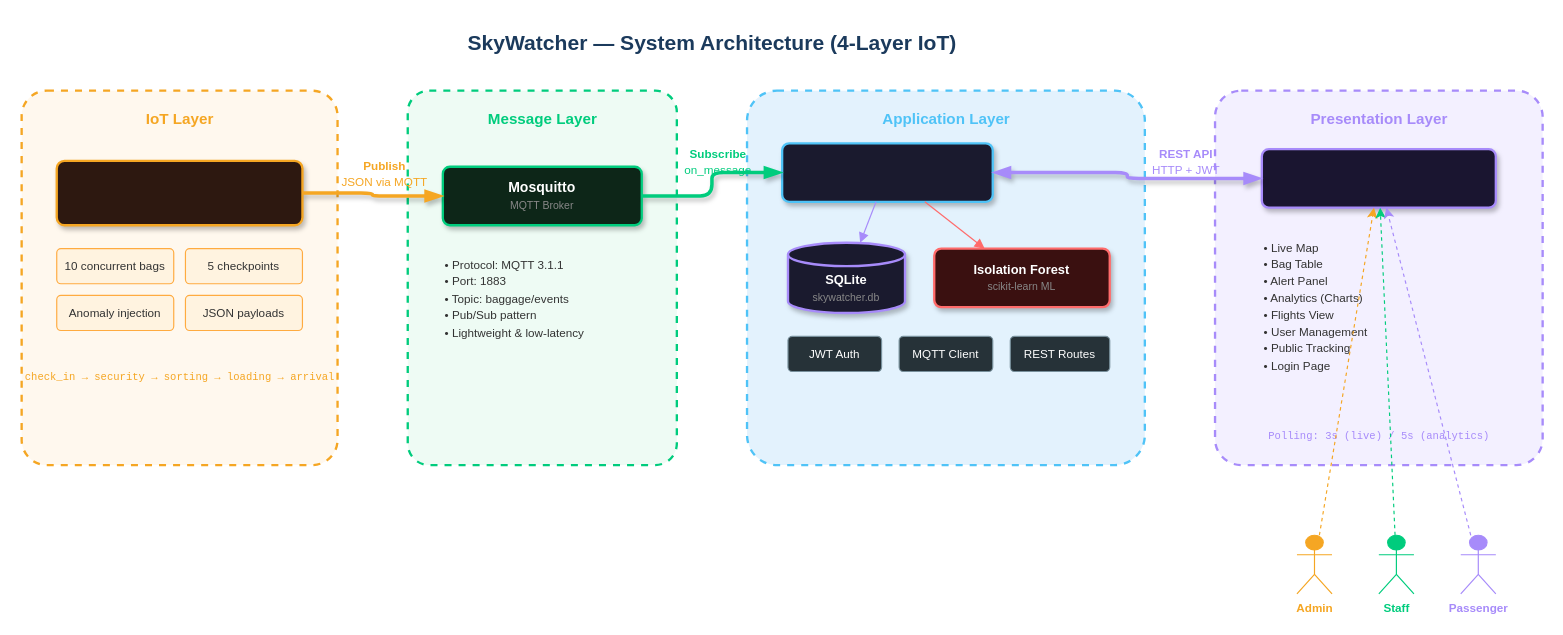
Some shapes in this 1563 by 635 pixel diagram are drawn without their labels. The centre of each missing label's shape, as x and y in pixels:
Flask Backend REST API · Port 5000: point (888, 174)
React Dashboard Vite · Port 5173: point (1379, 179)
RFID Simulator Python + paho-mqtt: point (180, 194)
